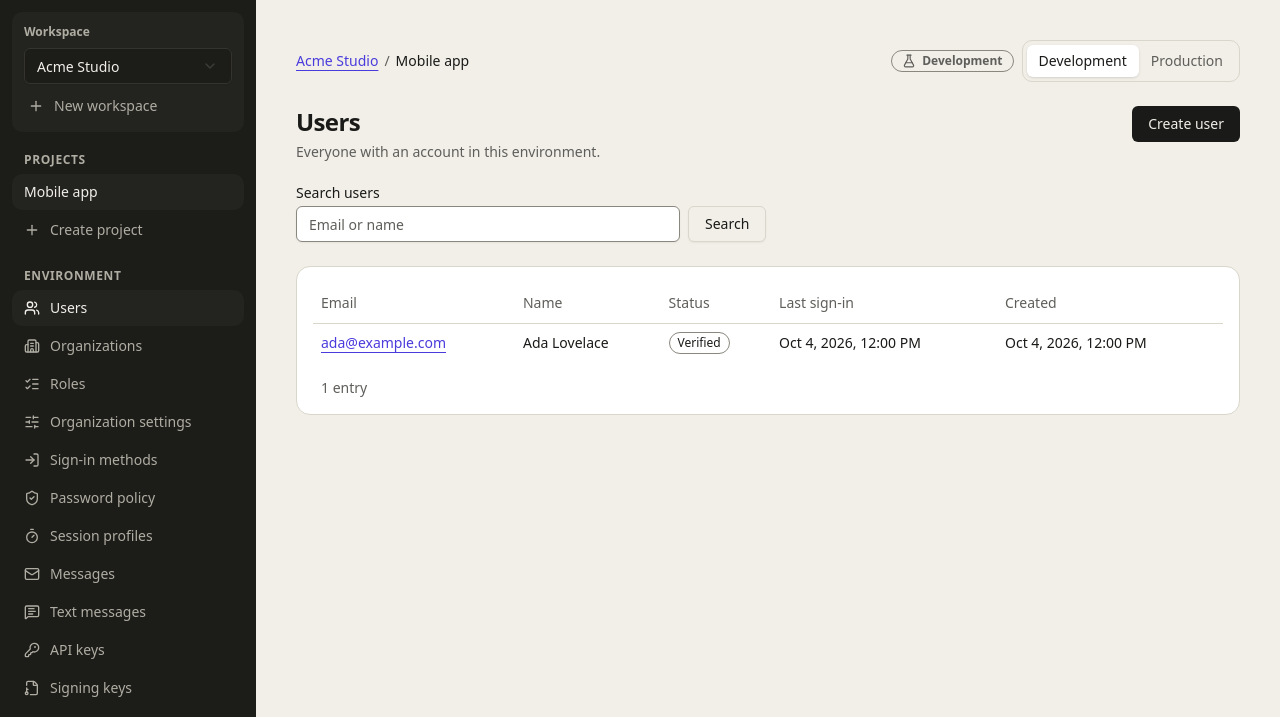
it: the text messages screen › is reached from the navigation, and says what an untouched environment sends: nothing
Click the link "Text messages": x=85, y=612 [24,602,146,621]
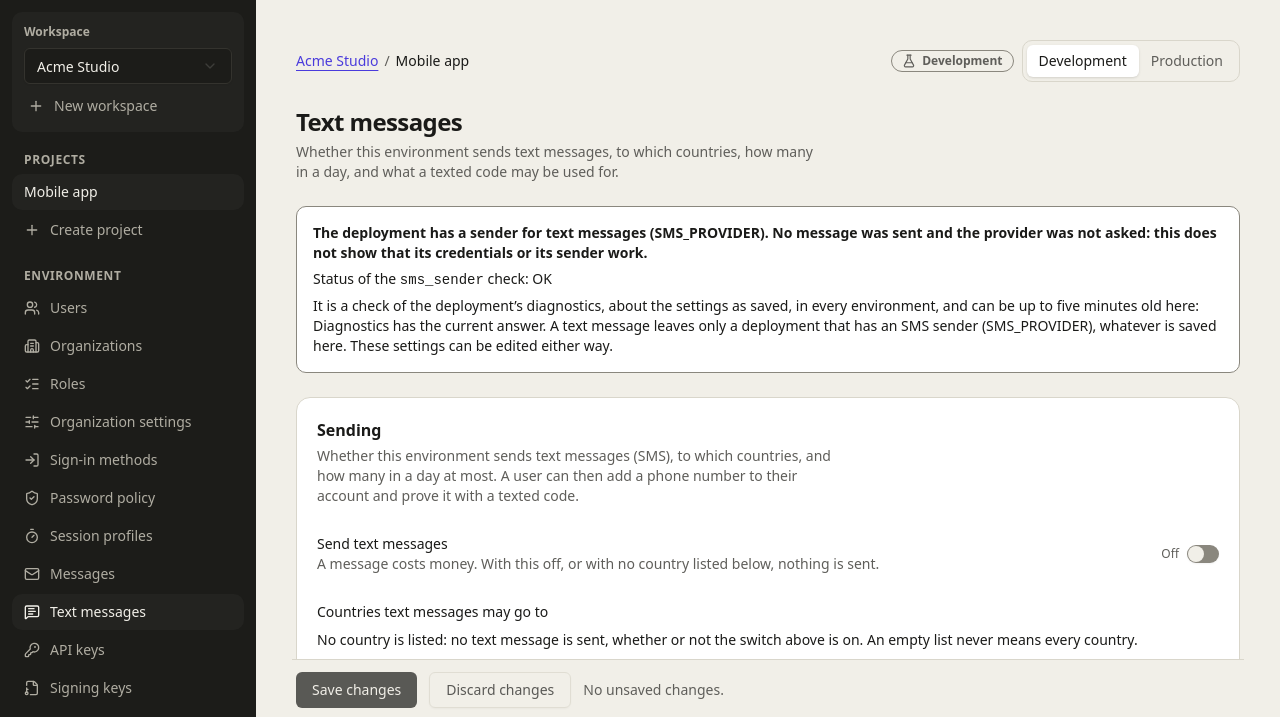
Now the heading "Text messages" is shown, box [296,105,462,138]
Now the text "No country is listed: no text message is sent" is shown, box [317,630,1138,649]
Now the text "An empty list never means every country" is shown, box [317,630,1138,649]
